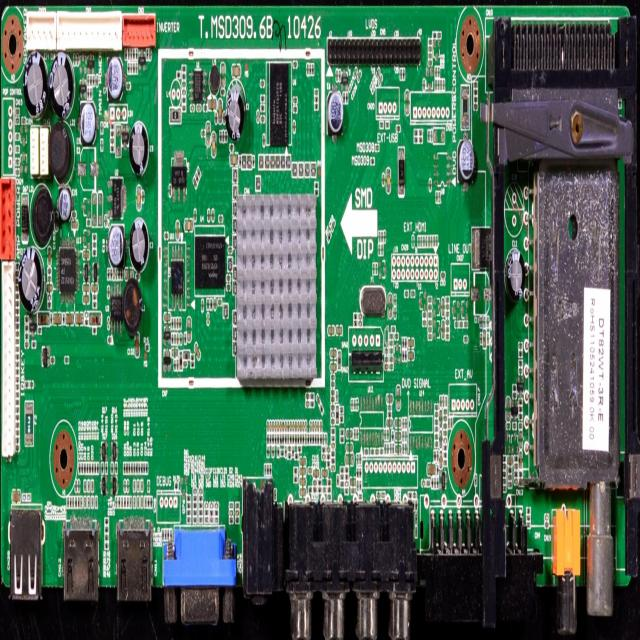Capacitor Jumper: (136, 184, 141, 212), (135, 334, 140, 360), (211, 132, 216, 157), (12, 490, 21, 503), (185, 218, 193, 232), (76, 312, 84, 326), (65, 313, 74, 325), (230, 154, 238, 166), (82, 249, 90, 261), (232, 65, 240, 77), (176, 221, 180, 242), (53, 314, 61, 324), (330, 360, 337, 371), (82, 284, 90, 293), (299, 487, 306, 497), (218, 100, 221, 123), (71, 221, 78, 230), (408, 338, 414, 348), (262, 133, 266, 147), (91, 284, 98, 292), (82, 296, 89, 304), (48, 246, 51, 264), (46, 284, 52, 293), (328, 326, 334, 335), (288, 420, 292, 433), (321, 471, 328, 478), (336, 327, 342, 335), (256, 110, 259, 125), (408, 352, 414, 359), (299, 469, 306, 475), (126, 478, 129, 492), (260, 80, 265, 88), (293, 96, 298, 104), (312, 479, 317, 487), (207, 209, 210, 222), (300, 459, 306, 465), (314, 469, 318, 478), (306, 64, 309, 76), (293, 106, 298, 113), (331, 351, 336, 358), (300, 479, 305, 486), (209, 502, 214, 509), (269, 420, 272, 431), (308, 468, 312, 476), (192, 486, 196, 494), (214, 502, 218, 510), (293, 60, 297, 68), (196, 106, 201, 112), (267, 419, 269, 434), (314, 422, 317, 432), (124, 479, 126, 494), (75, 478, 77, 492), (78, 479, 80, 493), (204, 501, 208, 508), (309, 422, 312, 431), (294, 120, 296, 133), (212, 209, 214, 221), (194, 210, 196, 222), (322, 454, 326, 460), (331, 466, 335, 472), (199, 488, 203, 494), (235, 510, 239, 516), (229, 510, 233, 516), (282, 421, 284, 432), (300, 421, 302, 432), (292, 421, 294, 432), (305, 421, 307, 432), (280, 421, 282, 432), (190, 105, 193, 112), (284, 421, 286, 431), (277, 422, 279, 432), (297, 422, 299, 432), (320, 422, 322, 432), (317, 422, 319, 432), (327, 447, 331, 452), (312, 421, 314, 430), (272, 422, 274, 431), (275, 422, 277, 431), (287, 422, 289, 431), (295, 422, 297, 431), (302, 422, 304, 430), (331, 443, 334, 447)
Connector: (1, 262, 18, 460), (327, 37, 421, 68), (57, 12, 122, 51), (0, 177, 15, 259), (26, 11, 54, 51), (124, 15, 156, 48)
IC: (266, 60, 292, 146), (195, 225, 225, 296), (358, 395, 384, 447), (58, 242, 79, 304), (409, 400, 434, 450), (168, 241, 185, 310), (171, 157, 187, 201), (190, 68, 206, 102)
Resistor Jumper: (225, 127, 228, 147), (104, 461, 108, 474), (142, 461, 146, 474), (24, 380, 29, 390), (292, 475, 298, 483), (260, 94, 265, 103), (260, 103, 265, 112), (135, 462, 139, 473), (311, 64, 315, 75), (219, 130, 222, 144), (314, 103, 319, 111), (314, 189, 319, 197), (92, 249, 97, 257), (178, 319, 182, 329), (24, 324, 29, 332), (24, 332, 29, 340), (340, 433, 344, 443), (127, 464, 131, 474), (182, 64, 187, 72), (50, 313, 53, 326), (135, 48, 138, 61), (92, 233, 96, 242), (352, 320, 358, 326), (331, 433, 335, 442), (274, 434, 277, 446), (78, 462, 81, 474), (83, 462, 86, 474), (91, 463, 94, 475), (94, 463, 97, 475), (81, 463, 84, 475), (147, 480, 150, 492), (104, 543, 110, 549), (353, 313, 358, 320), (24, 316, 29, 323), (321, 446, 326, 453), (293, 467, 298, 474), (104, 517, 109, 524), (85, 462, 88, 473), (359, 469, 362, 480), (182, 72, 186, 80), (182, 104, 186, 112), (414, 128, 418, 136), (110, 146, 114, 154), (93, 301, 97, 309), (48, 302, 52, 310), (340, 406, 344, 414), (331, 427, 335, 435), (327, 479, 331, 487), (174, 482, 178, 490), (187, 494, 191, 502), (229, 516, 233, 524), (105, 525, 109, 533), (404, 338, 407, 348), (319, 434, 322, 444), (138, 463, 141, 473), (359, 481, 362, 491), (150, 498, 153, 508), (235, 518, 240, 524), (414, 136, 418, 143), (314, 182, 318, 189), (93, 294, 97, 301), (93, 328, 97, 335), (32, 341, 36, 348), (340, 466, 344, 473), (308, 487, 312, 494), (192, 502, 196, 509), (187, 510, 191, 517), (186, 516, 190, 523), (404, 351, 407, 360), (171, 316, 173, 329), (282, 433, 284, 446), (280, 435, 282, 448), (115, 461, 117, 474), (269, 463, 271, 476), (198, 504, 203, 509), (90, 88, 92, 100), (87, 89, 89, 101), (314, 96, 318, 102), (182, 98, 186, 104), (110, 124, 114, 130), (418, 130, 422, 136), (110, 131, 114, 137), (210, 298, 212, 310), (146, 345, 150, 351), (191, 353, 194, 361), (340, 414, 343, 422), (284, 433, 286, 445), (289, 436, 292, 444), (297, 436, 300, 444), (314, 436, 317, 444), (270, 434, 272, 446), (294, 453, 298, 459), (126, 462, 128, 474), (146, 463, 148, 475), (89, 463, 91, 475), (318, 480, 322, 486), (313, 487, 317, 493), (199, 495, 203, 501), (193, 496, 197, 502), (168, 530, 170, 542), (105, 533, 108, 541), (132, 63, 134, 75), (92, 75, 94, 86), (62, 314, 64, 325), (267, 446, 269, 457), (133, 463, 135, 474), (112, 463, 114, 474), (267, 464, 269, 475), (118, 497, 120, 508), (124, 498, 126, 509), (162, 530, 164, 541), (125, 50, 127, 61), (128, 62, 130, 73), (85, 319, 88, 326), (327, 454, 330, 461), (90, 74, 92, 84), (184, 332, 186, 342), (180, 334, 182, 344), (402, 338, 404, 348), (402, 351, 404, 361), (174, 360, 176, 370), (272, 433, 274, 443), (293, 434, 295, 444), (312, 434, 314, 444), (267, 434, 269, 444), (272, 446, 274, 456), (102, 462, 104, 472), (97, 463, 99, 473), (131, 463, 133, 473), (140, 464, 142, 474), (344, 468, 348, 473), (357, 468, 359, 478), (318, 488, 322, 493), (148, 498, 150, 508), (75, 498, 77, 508), (78, 498, 80, 508), (70, 498, 72, 508), (133, 49, 135, 59), (146, 50, 148, 60), (309, 64, 311, 74), (177, 72, 180, 78), (419, 138, 422, 144), (171, 336, 174, 342), (191, 362, 194, 368), (287, 434, 289, 443), (302, 434, 304, 443), (317, 435, 319, 444), (298, 446, 301, 452), (328, 487, 331, 493), (187, 503, 190, 509), (207, 298, 209, 306), (340, 430, 344, 434), (276, 436, 278, 444), (310, 436, 312, 444), (332, 457, 334, 464), (300, 436, 302, 442), (280, 435, 281, 447), (332, 452, 335, 456), (327, 462, 330, 466), (124, 462, 125, 474), (308, 435, 309, 444), (295, 436, 296, 444)
Transistor: (163, 351, 171, 378), (163, 323, 170, 345)
iC: (109, 176, 126, 222), (111, 286, 124, 338)
